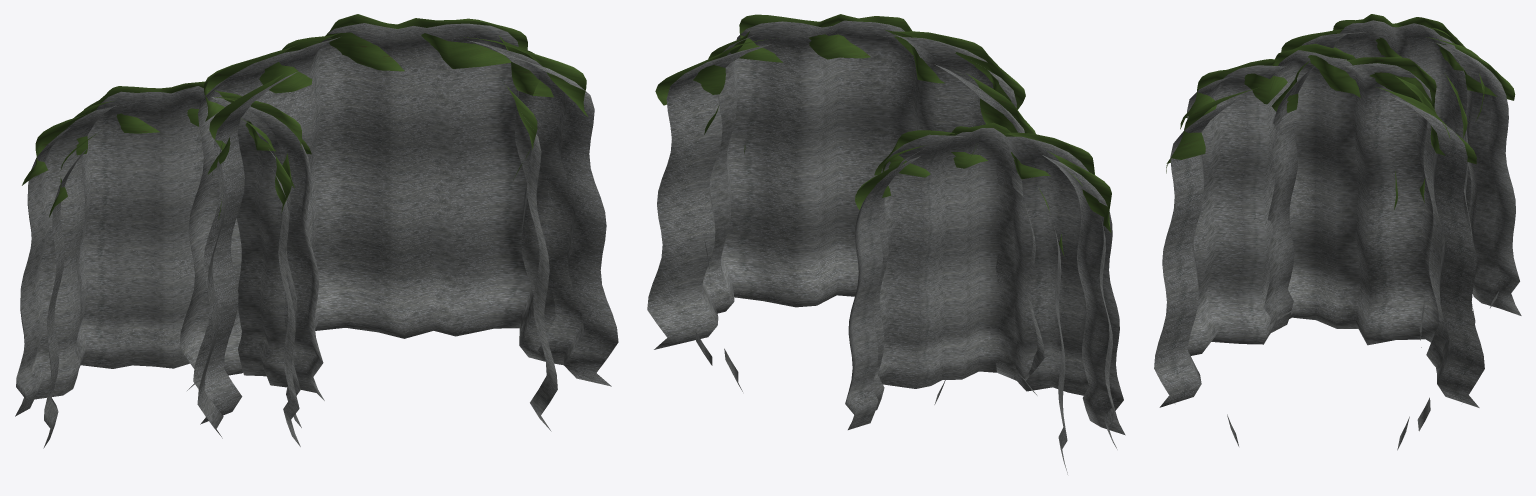
File: karst-island-05.glb
3 views of the same model, side by side, from view 1: azimuth 30°, elevation 25°; view 2: azimuth 150°, elevation 25°; view 3: azimuth 270°, elevation 25° (orthographic). The views are drawn at different scales.
Visible parts, largest first — view 1: Cliff_LOD0, Canopy_LOD0; view 2: Cliff_LOD0, Canopy_LOD0; view 3: Cliff_LOD0, Canopy_LOD0.
Part boxes in pixels (<box>): Cliff_LOD0: <box>15,23,618,448</box>; Canopy_LOD0: <box>22,14,587,219</box>; Cliff_LOD0: <box>647,20,1125,474</box>; Canopy_LOD0: <box>655,14,1111,255</box>; Cliff_LOD0: <box>1154,20,1521,450</box>; Canopy_LOD0: <box>1166,14,1515,209</box>.
Size of what is drawn, in the model's own units: 429 by 286 by 299.
2 materials, 2 textured.
